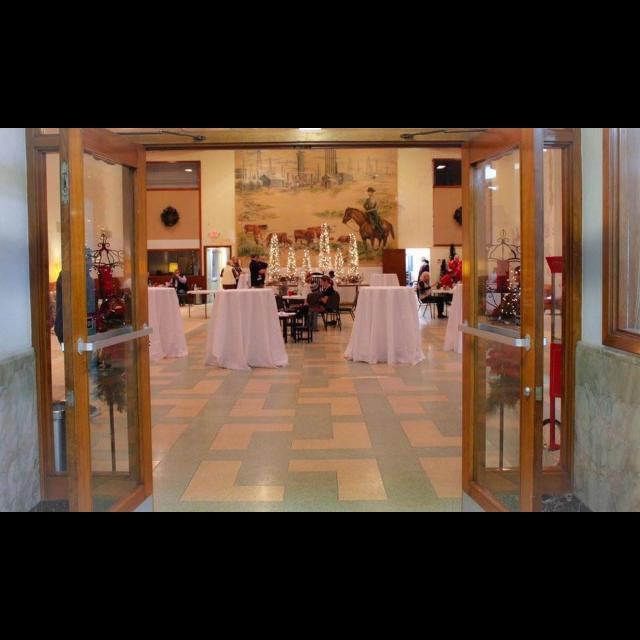head: (72, 247, 95, 271), (514, 266, 526, 282), (321, 276, 332, 288), (422, 272, 431, 282), (251, 253, 259, 261), (312, 286, 320, 294), (173, 270, 180, 278), (226, 260, 234, 266), (232, 258, 240, 264), (280, 278, 288, 284), (262, 256, 268, 262), (448, 269, 454, 275), (330, 272, 334, 278)
person: (54, 247, 104, 421), (499, 265, 538, 367), (305, 275, 339, 331), (417, 270, 448, 320), (248, 252, 270, 308), (304, 280, 324, 332), (220, 259, 240, 307), (168, 269, 190, 307), (230, 255, 247, 301), (324, 270, 341, 312), (441, 268, 462, 302), (276, 276, 292, 312), (256, 255, 270, 282)
